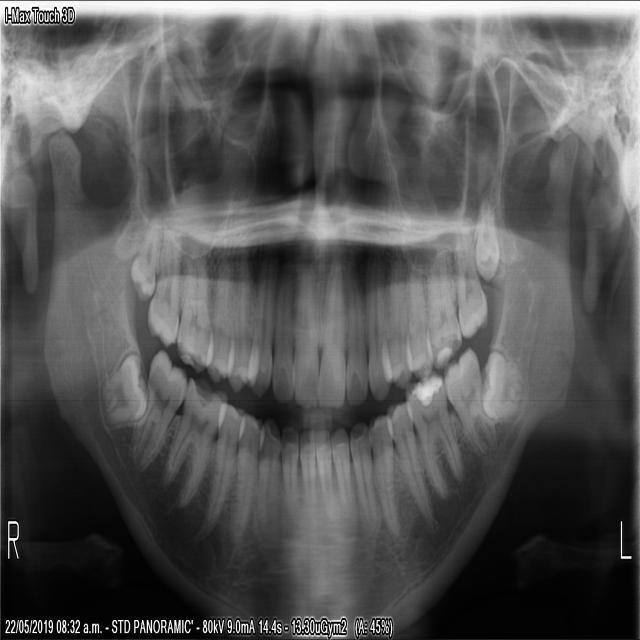LCD: (346, 413, 377, 535)
LCU: (363, 265, 392, 404)
LID: (312, 420, 337, 519), (329, 420, 353, 512)
LIU: (315, 247, 345, 415), (343, 254, 368, 411)
LMD: (401, 368, 465, 501), (439, 343, 497, 463), (477, 346, 527, 429)
LMU: (421, 240, 464, 373), (449, 218, 489, 346), (470, 187, 500, 284)
LPMD: (383, 394, 433, 526), (365, 408, 402, 542)
LPMU: (379, 258, 412, 390), (403, 264, 433, 379)
RCD: (253, 409, 280, 541)
RCU: (244, 256, 274, 402)
RID: (278, 416, 299, 525), (297, 422, 318, 520)
RIU: (290, 256, 318, 413), (269, 267, 293, 410)
RMD: (156, 374, 227, 516), (123, 341, 188, 480), (93, 347, 150, 434)
RMU: (173, 246, 214, 376), (143, 224, 181, 348), (125, 213, 159, 306)
RPMD: (188, 395, 245, 546), (229, 406, 265, 546)
RPMU: (224, 245, 259, 397), (200, 257, 235, 385)
